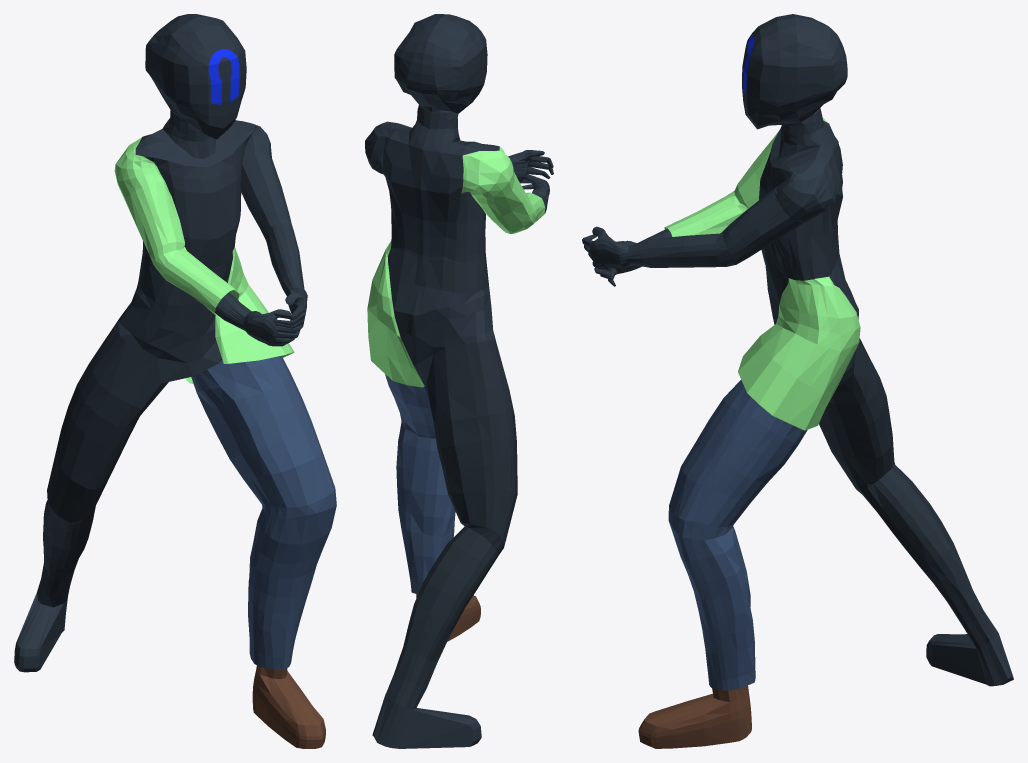
Rendered from Mar_WL_000029.obj.
3 renders of one model, left to right at view 1: azimuth 30°, elevation 25°; view 2: azimuth 150°, elevation 25°; view 3: azimuth 270°, elevation 25°, orthographic. The views are drawn at different scales.
Visible parts, largest first — view 1: Cube.000_Cube.001; view 2: Cube.000_Cube.001; view 3: Cube.000_Cube.001.
Boxes of the visible parts, box(x1,y1,x2,y2) form: Cube.000_Cube.001: box(14, 14, 336, 748); Cube.000_Cube.001: box(365, 14, 553, 748); Cube.000_Cube.001: box(582, 14, 1013, 748).
Size of the model in its own units: 1.11 by 3.73 by 2.08.
